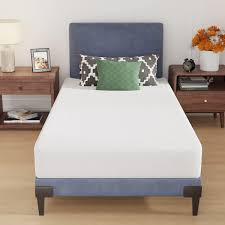bed-matress: (34, 74, 202, 179)
